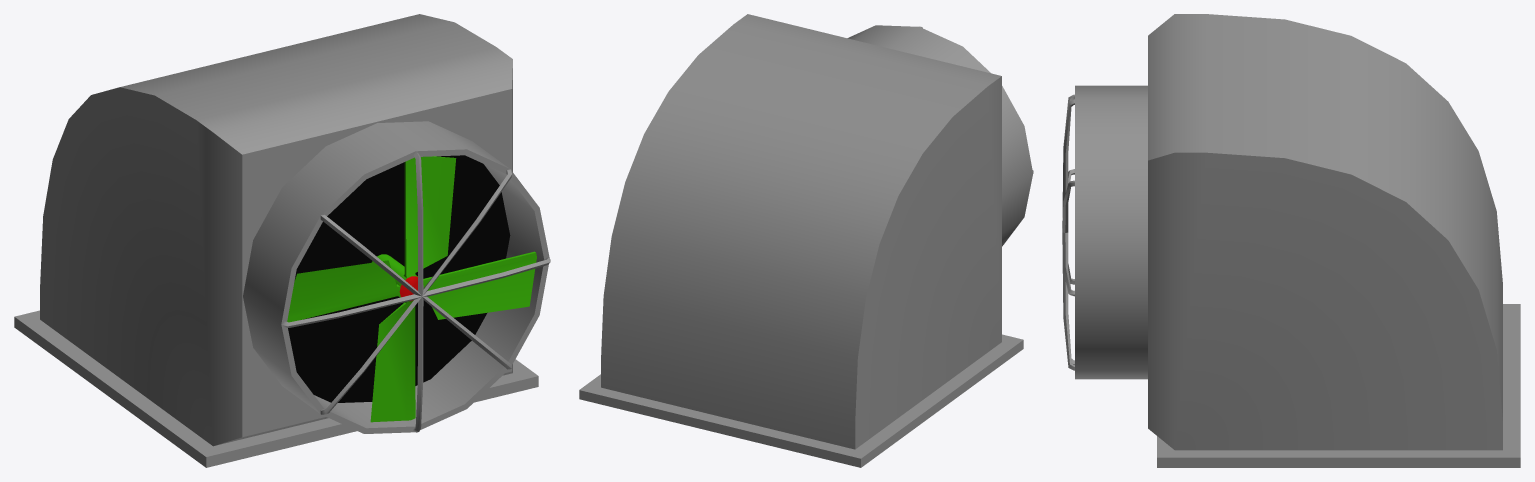
The model's file is ART-MOD-A-VENT-001-Carl-Edits.FBX.
3 views of the same model, side by side, from view 1: azimuth 30°, elevation 25°; view 2: azimuth 150°, elevation 25°; view 3: azimuth 270°, elevation 25° (orthographic). The views are drawn at different scales.
Parts seen in each view (by area): view 1: Fan, Vent; view 2: Fan; view 3: Fan.
Boxes of the visible parts, box(x1,y1,x2,y2) form: Fan: box(14, 14, 550, 467); Vent: box(287, 156, 536, 422); Fan: box(579, 14, 1033, 467); Fan: box(1062, 14, 1520, 467).
Size of the model in its own units: 4.43 by 4.14 by 5.58.
